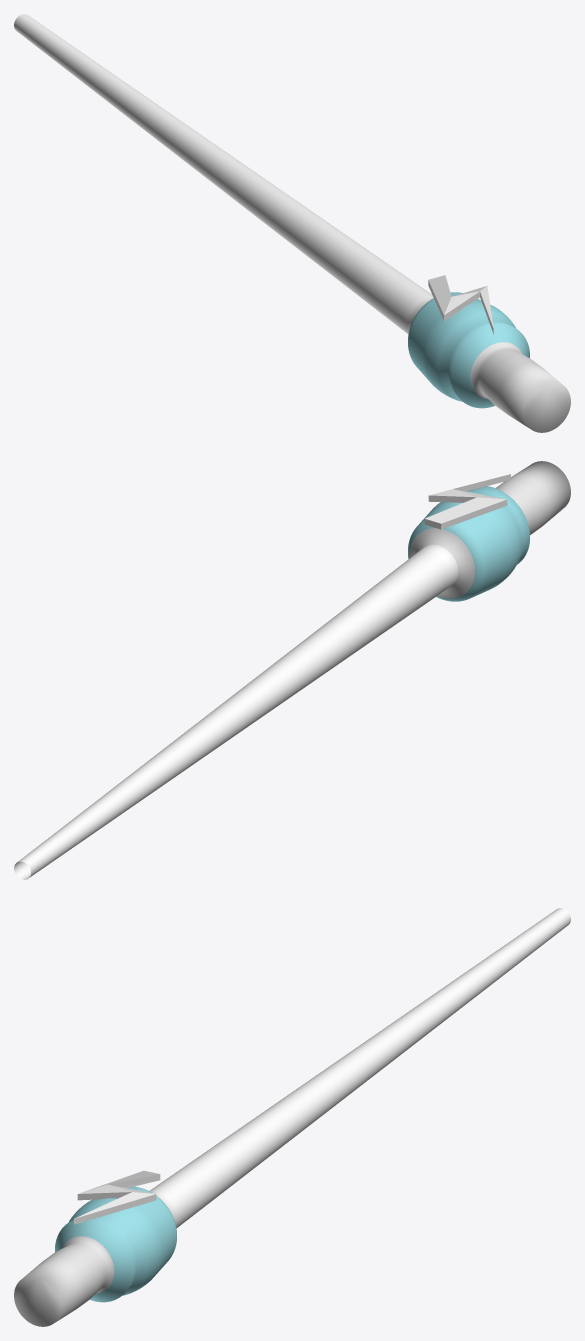
Rendered from Senggekan.fbx.
3 views of the same model, one above another, from view 1: azimuth 30°, elevation 25°; view 2: azimuth 150°, elevation 25°; view 3: azimuth 330°, elevation 25° (orthographic).
Visible parts, largest first — view 1: Plane.001; view 2: Plane.001; view 3: Plane.001.
Boxes of the visible parts, x1=… form: Plane.001: x1=14, y1=14, x2=570, y2=432; Plane.001: x1=14, y1=461, x2=570, y2=879; Plane.001: x1=14, y1=908, x2=570, y2=1326.
Bounding box in the file's own units: 14.52 × 15.73 × 151.
